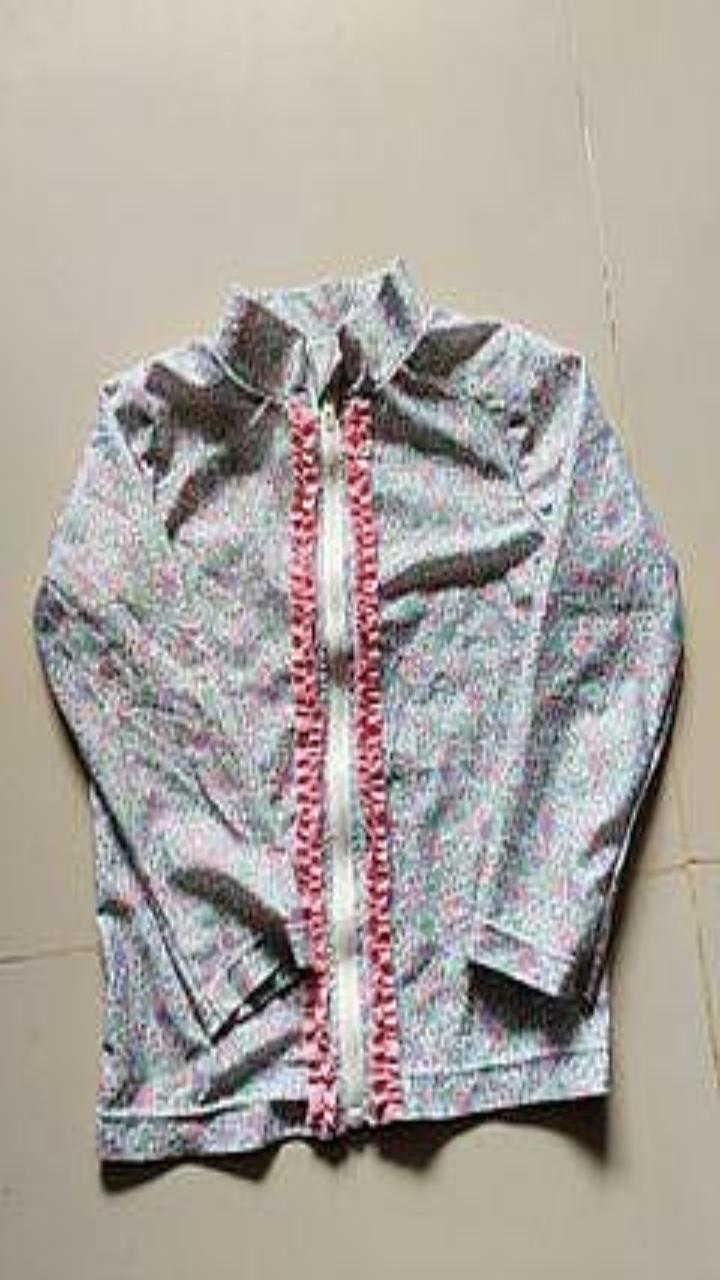Sports_Jacket: (32, 255, 683, 1160)
